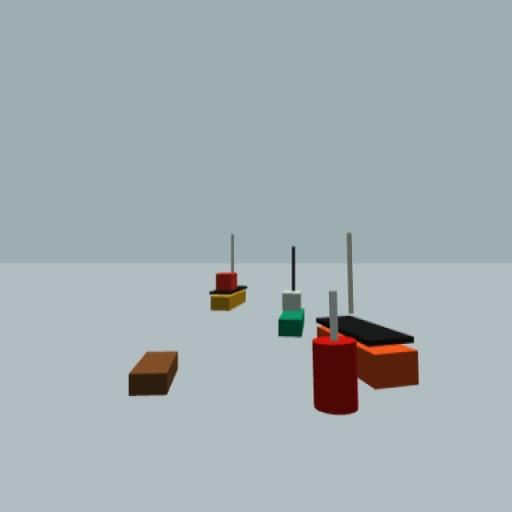debris_container: (129, 348, 177, 398)
fishing_boat: (277, 247, 305, 337)
floating_obstacle: (310, 290, 360, 413)
vessel: (317, 234, 420, 388), (210, 232, 247, 314)
